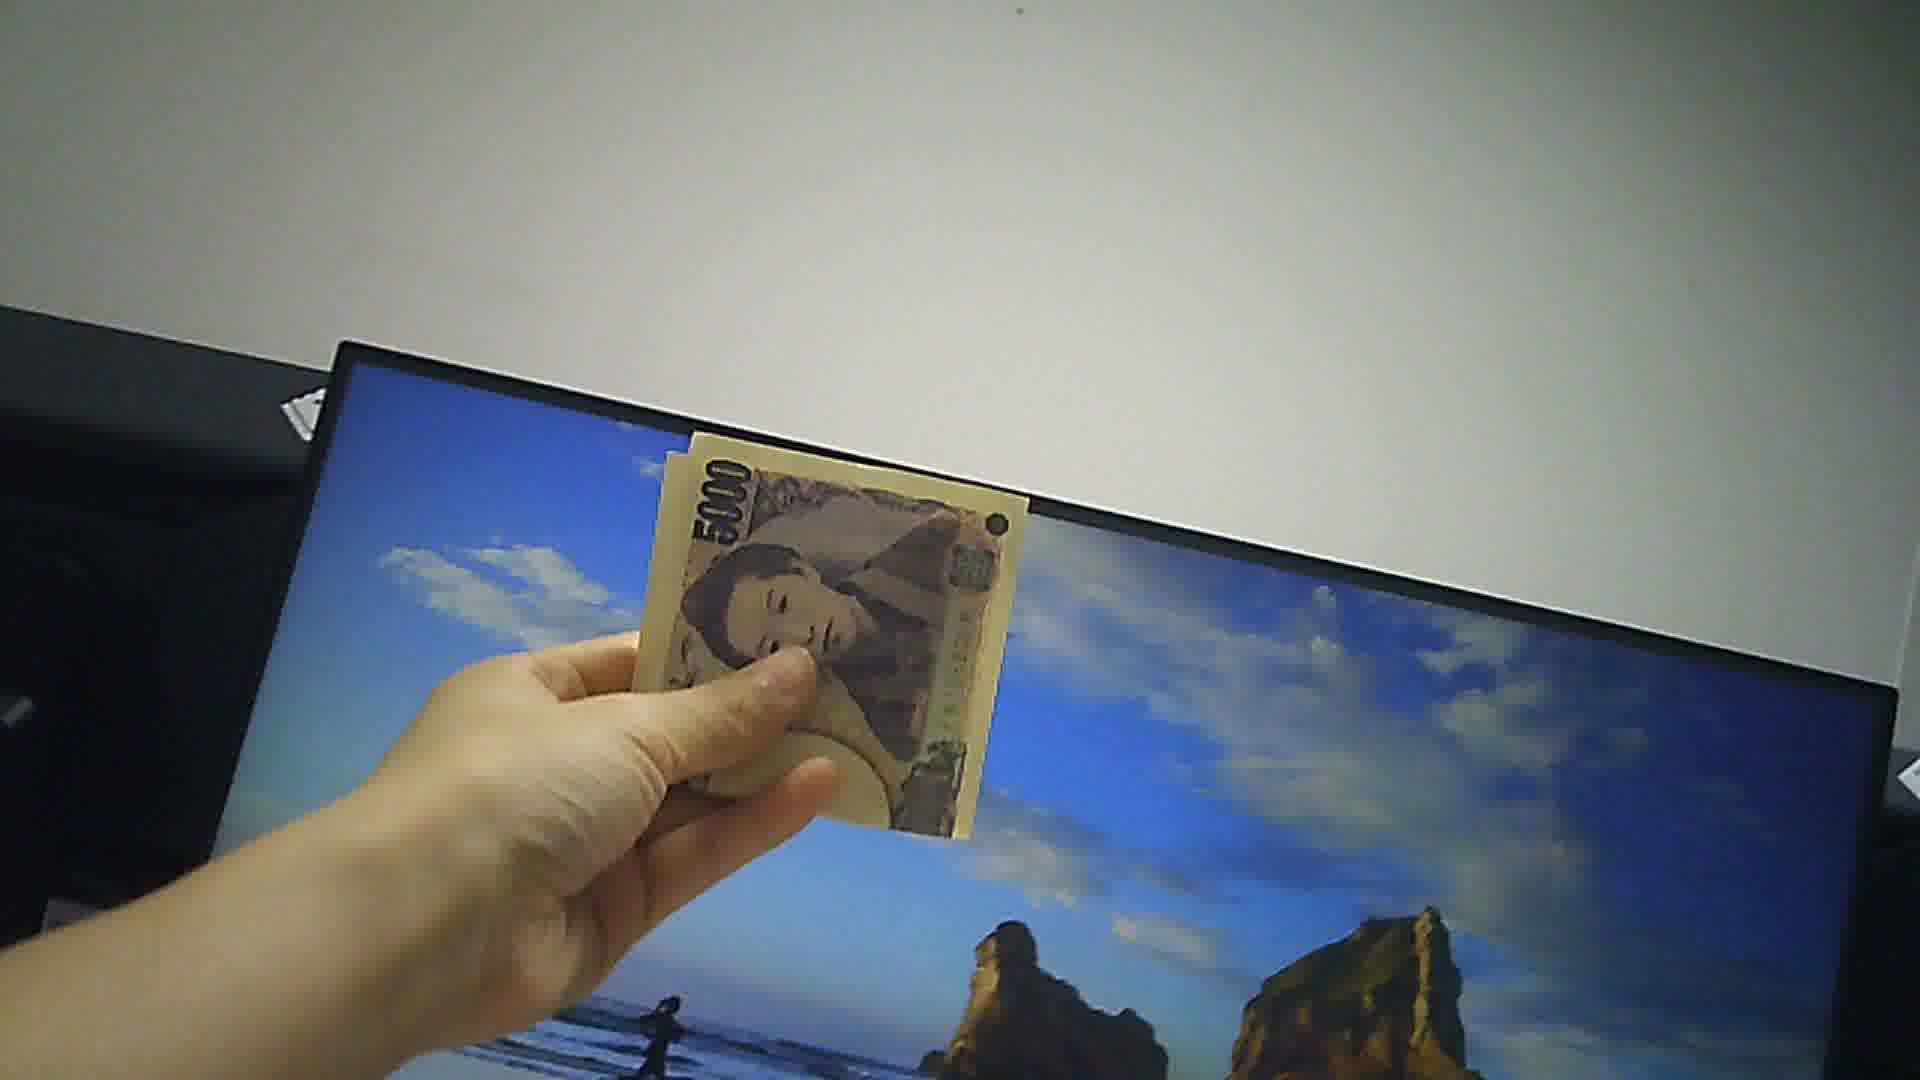5,000 Yen: (616, 430, 1034, 848)
